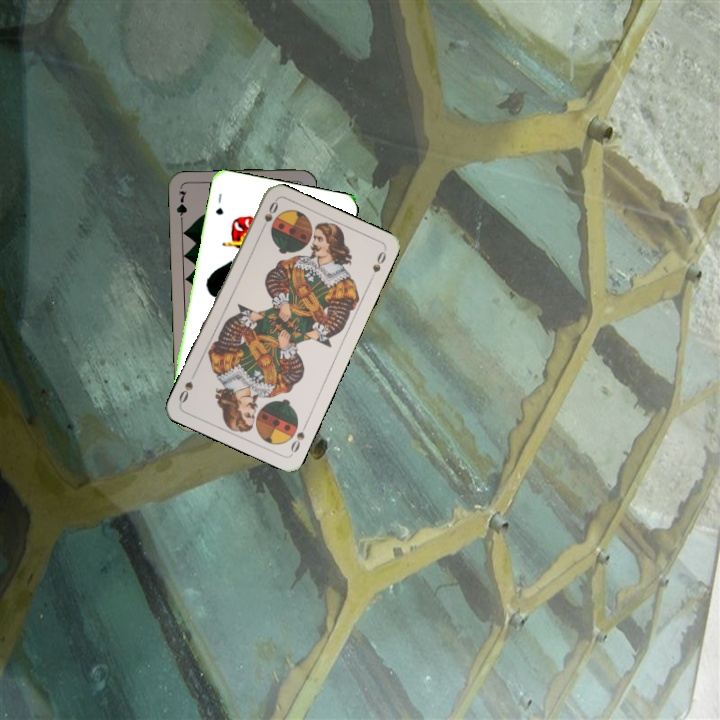G7: (172, 186, 190, 227)
GU: (211, 189, 226, 217)
SO: (256, 197, 281, 236), (286, 418, 310, 455)
